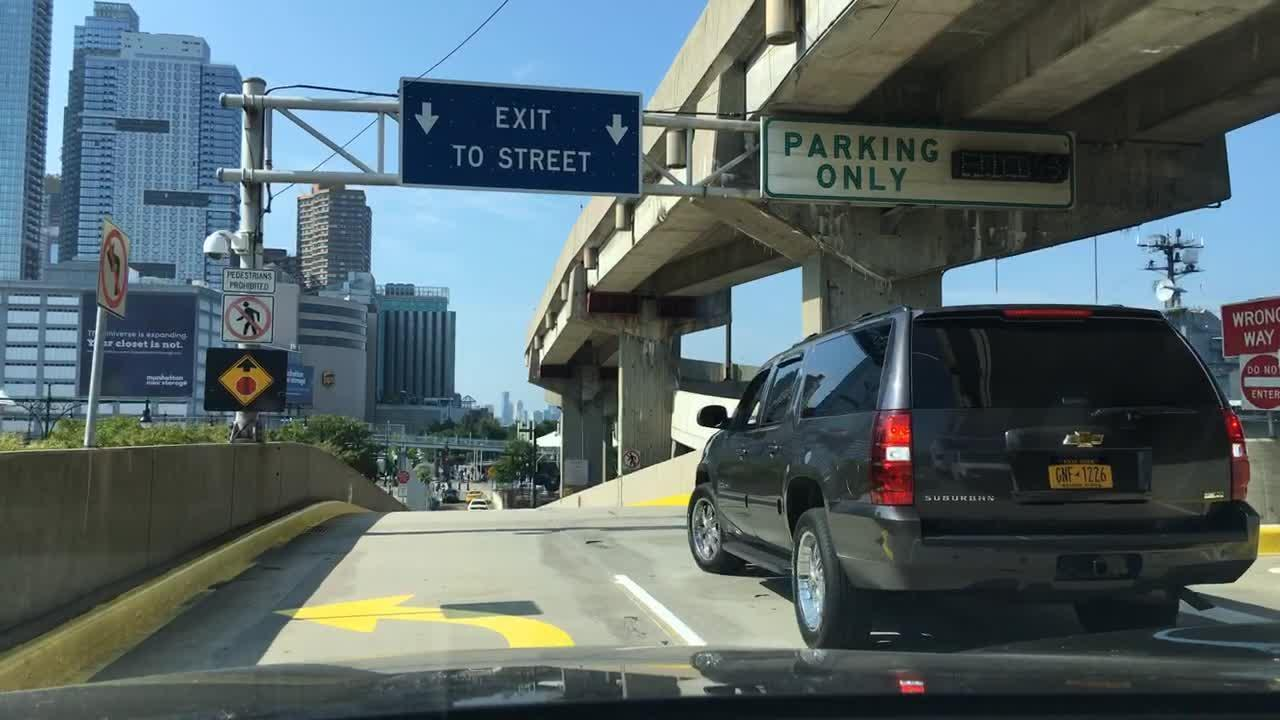chevrolet: (1053, 425, 1112, 455)
